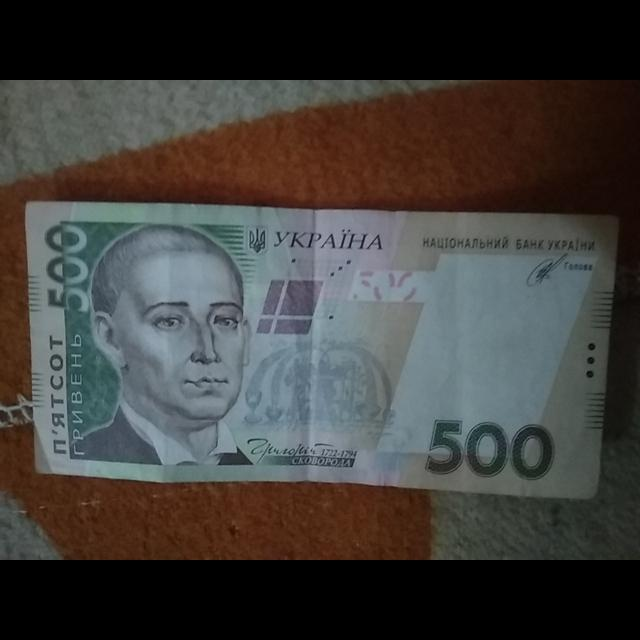500uah: (26, 203, 621, 500)
